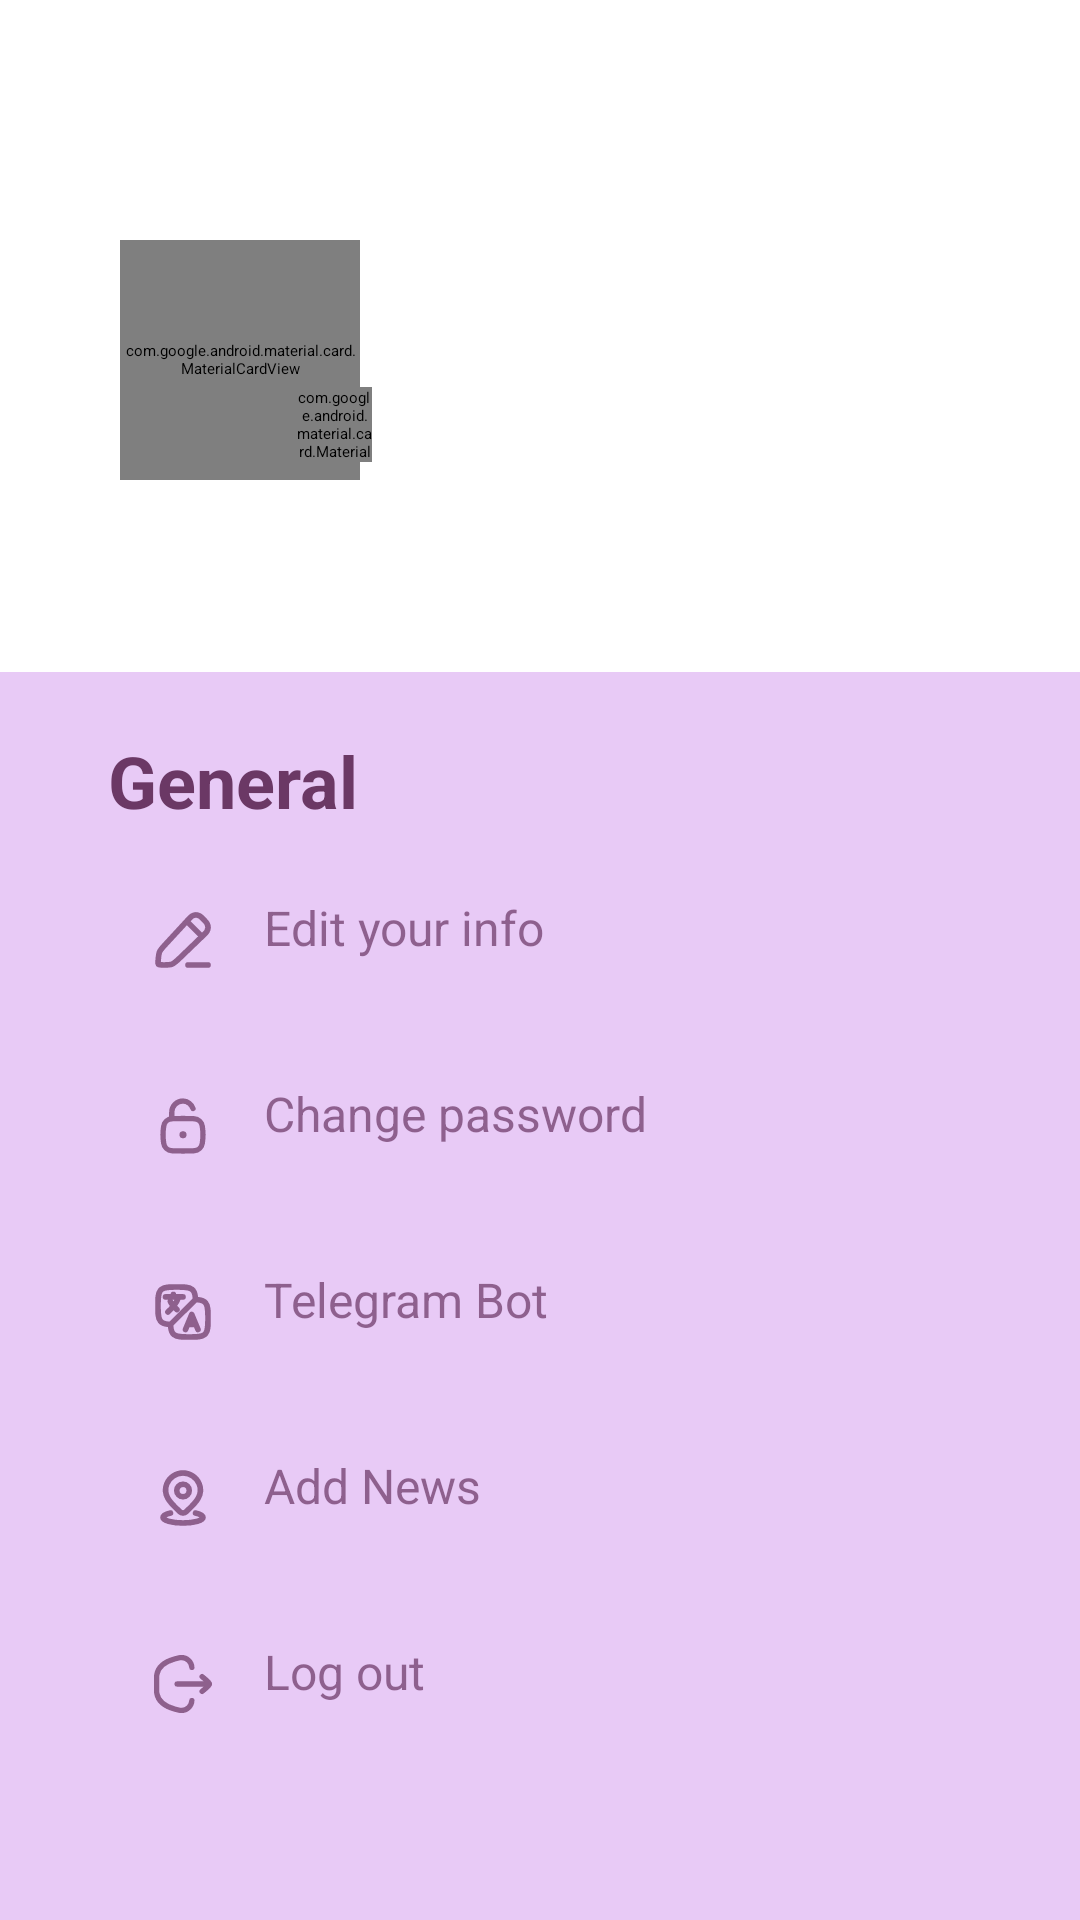

Named icons in this screenshot (1080x1920) and their bounding boxes, (x1, y1, x2, y2):
location: (160, 1470, 206, 1526)
translation: (155, 1284, 211, 1340)
